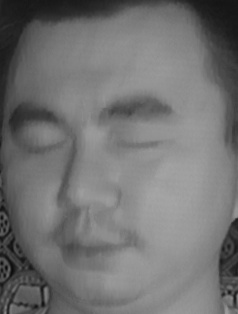blink: (18, 127, 69, 164), (116, 126, 169, 161)
mouth: (55, 221, 133, 274)
